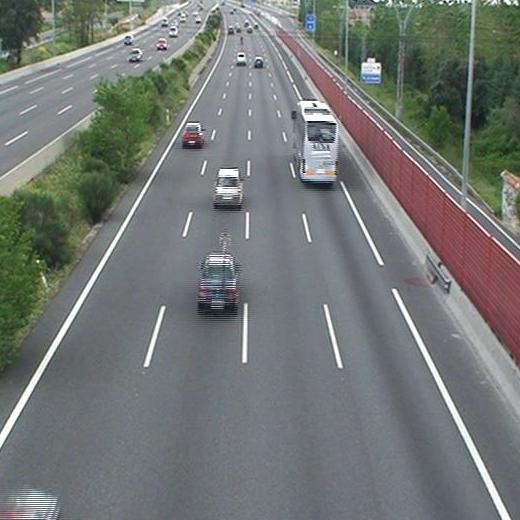bus: (294, 101, 338, 182)
car: (197, 254, 238, 311), (213, 169, 243, 205), (183, 122, 203, 146), (237, 53, 248, 65), (255, 57, 263, 67)
